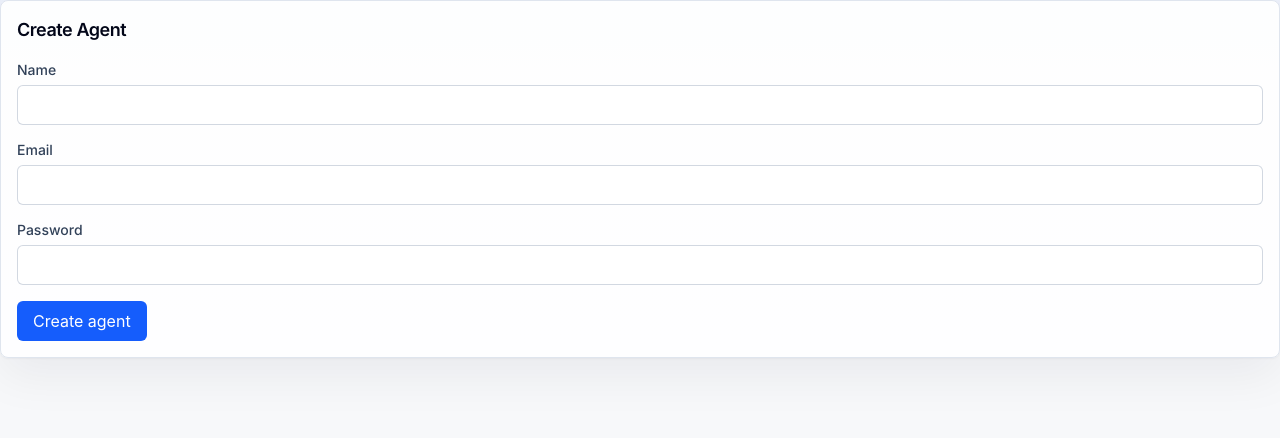
Test: CreateUserForm › validates values before submitting
In the field labelled "Name": {"x": 640, "y": 105} [17,85,1263,125], type "Al"
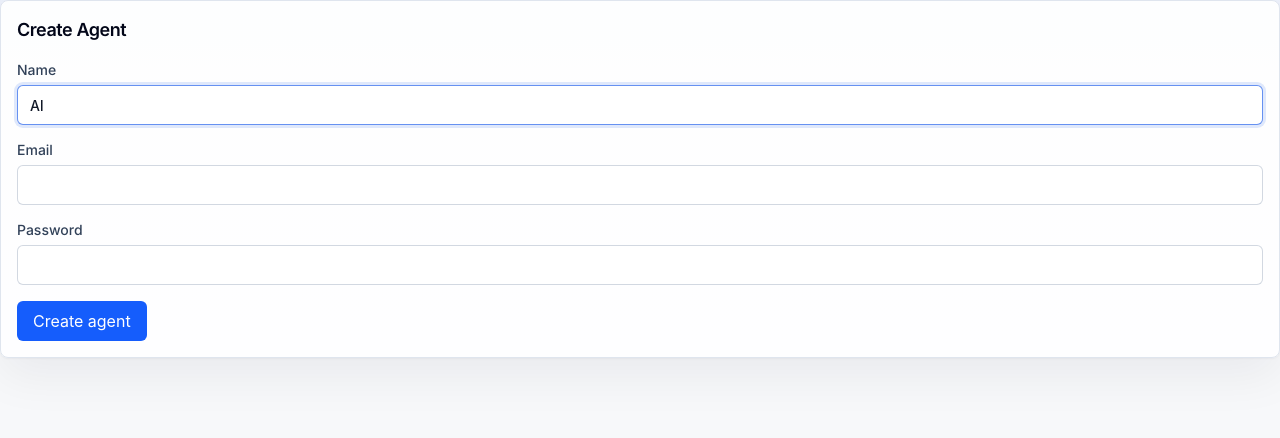
In the field labelled "Email": {"x": 640, "y": 185} [17,165,1263,205], type "not-an-email"
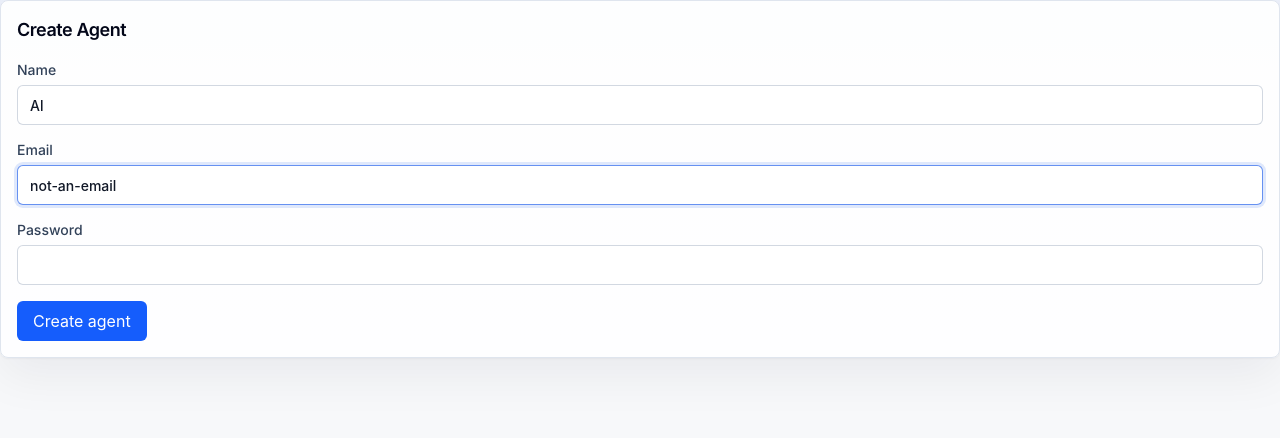
In the password field labelled "Password": {"x": 640, "y": 265} [17,245,1263,285], type "short"
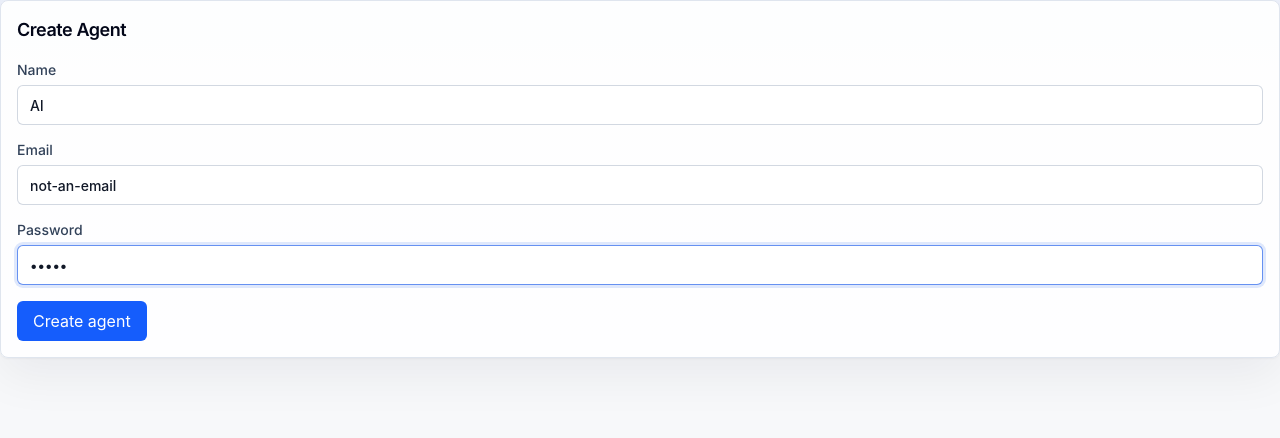
Click the button "Create agent": {"x": 82, "y": 321} [17,301,147,341]
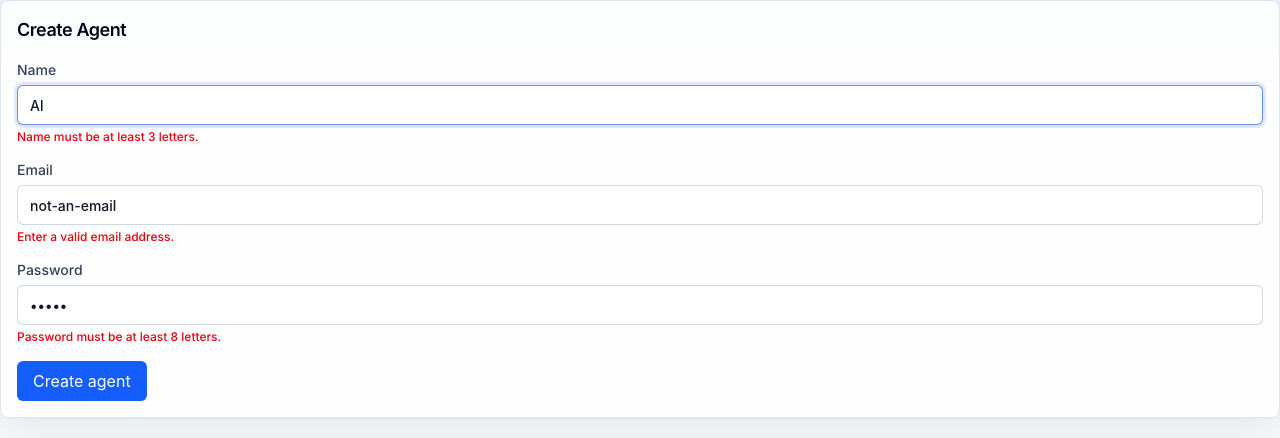
Now the text "Name must be at least 3 letters." is shown, box [17,129,198,144]
Now the text "Enter a valid email address." is shown, box [17,229,174,244]
Now the text "Password must be at least 8 letters." is shown, box [17,329,221,344]
